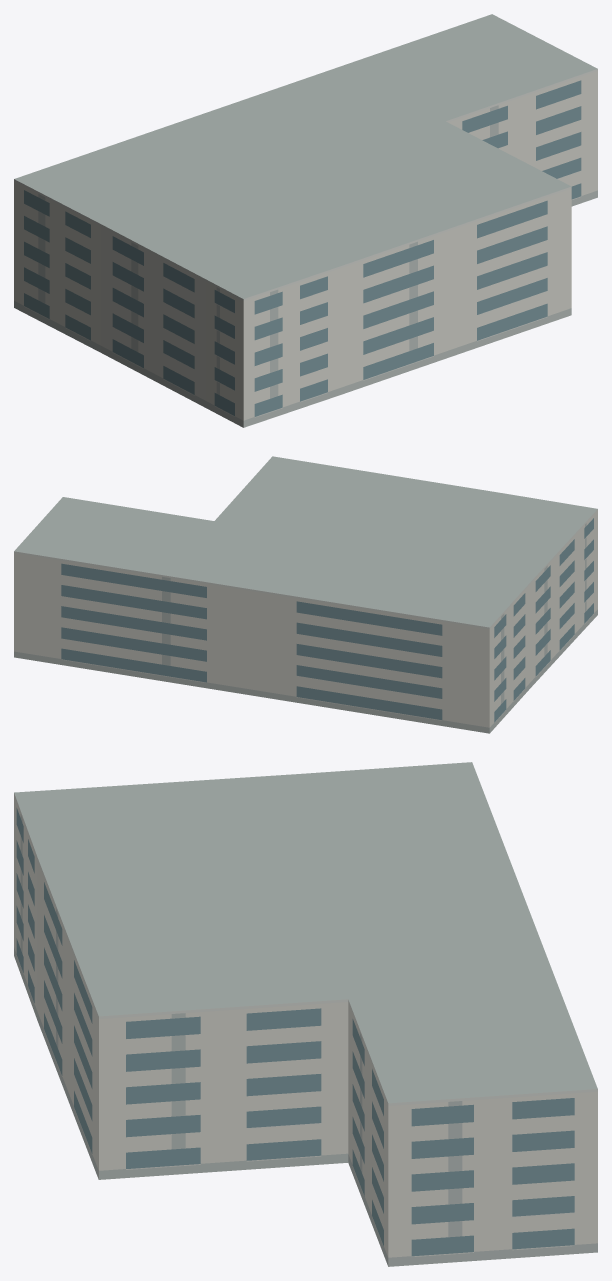
Rendered from residential-ad437667-4cbb-49dd-87fd-d99e75d7f10c.glb.
The picture shows the model from 3 angles, top to bottom: view 1: azimuth 30°, elevation 25°; view 2: azimuth 150°, elevation 25°; view 3: azimuth 270°, elevation 25°; orthographic projection. The views are drawn at different scales.
Parts seen in each view (by area): view 1: residential-ad437667-4cbb-49dd-87fd-d99e75d7f10c.tmp; view 2: residential-ad437667-4cbb-49dd-87fd-d99e75d7f10c.tmp; view 3: residential-ad437667-4cbb-49dd-87fd-d99e75d7f10c.tmp.
Part boxes in pixels (x1,y1,x2,y2): residential-ad437667-4cbb-49dd-87fd-d99e75d7f10c.tmp: (14, 14, 597, 427); residential-ad437667-4cbb-49dd-87fd-d99e75d7f10c.tmp: (14, 456, 597, 733); residential-ad437667-4cbb-49dd-87fd-d99e75d7f10c.tmp: (14, 762, 597, 1266).
Size of the model in its own units: 68.3 by 15.25 by 49.38.
